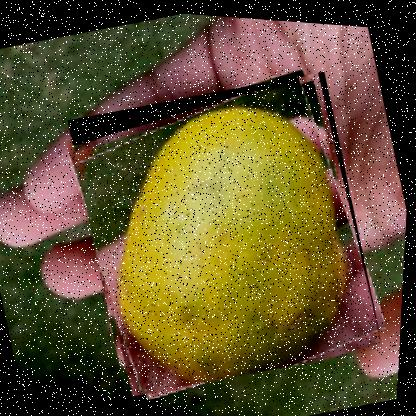orange: (56, 50, 397, 409)
